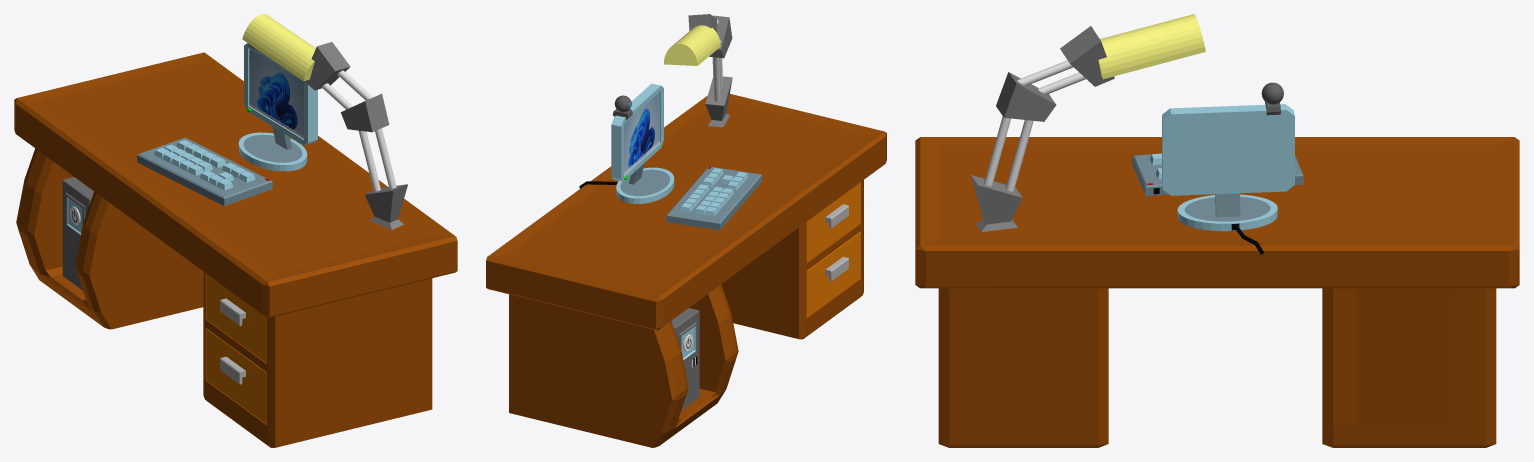
The model's file is stol.fbx.
The picture shows the model from 3 angles, left to right: view 1: azimuth 30°, elevation 25°; view 2: azimuth 150°, elevation 25°; view 3: azimuth 270°, elevation 25°; orthographic projection. The views are drawn at different scales.
Visible parts, largest first — view 1: stol, lampa, monik, klava, pc; view 2: stol, monik, klava, lampa, pc; view 3: stol, monik, lampa, klava.
Boxes of the visible parts, x1=… form: stol: x1=14, y1=52, x2=457, y2=447; lampa: x1=242, y1=14, x2=407, y2=229; monik: x1=238, y1=43, x2=317, y2=171; klava: x1=137, y1=137, x2=272, y2=206; pc: x1=62, y1=177, x2=93, y2=290; stol: x1=486, y1=94, x2=886, y2=447; monik: x1=579, y1=83, x2=674, y2=203; klava: x1=666, y1=166, x2=761, y2=230; lampa: x1=664, y1=14, x2=732, y2=127; pc: x1=671, y1=308, x2=699, y2=410; stol: x1=915, y1=137, x2=1519, y2=447; monik: x1=1162, y1=82, x2=1294, y2=254; lampa: x1=971, y1=14, x2=1205, y2=231; klava: x1=1132, y1=153, x2=1303, y2=196.
Bounding box in the file's own units: 251 × 391 × 542.
27 materials, 2 textured.
